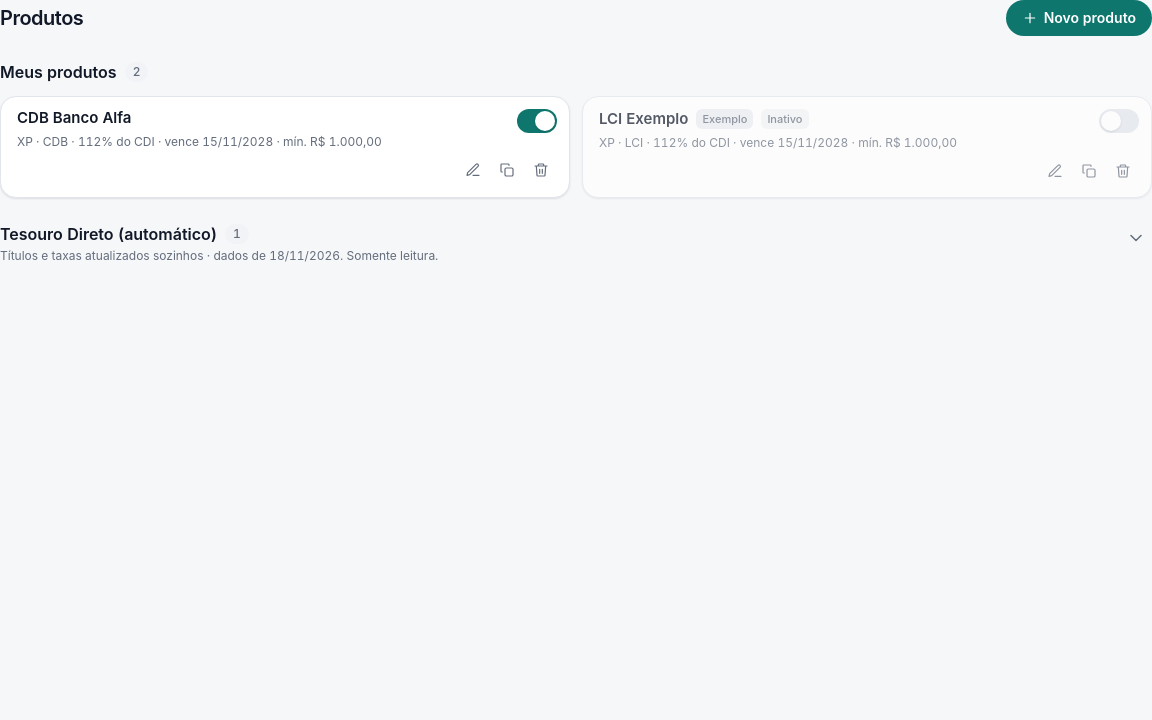
Test case: editar abre o formulário preenchido
Click the button named "Editar CDB Banco Alfa".
click(473, 170)  # box [457,154,489,186]
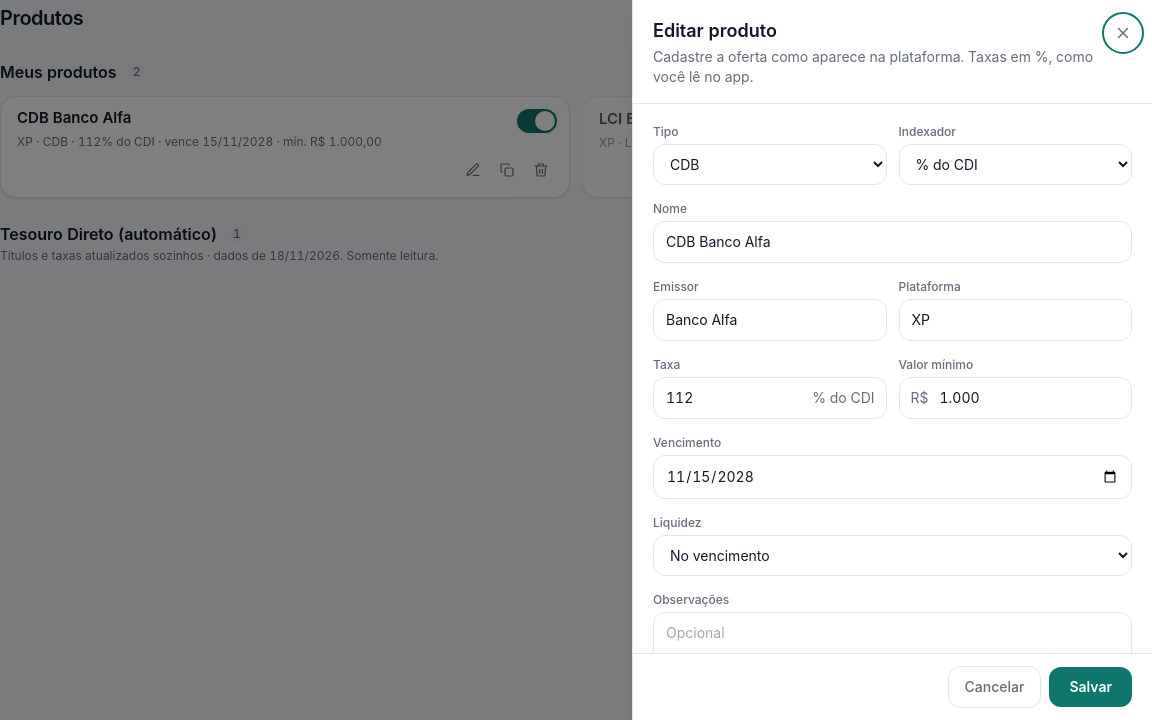
Expected: the field labelled "Nome" holds "CDB Banco Alfa", [653,220,1132,262]
Expected: the field labelled "Taxa" holds "112", [653,376,886,418]
